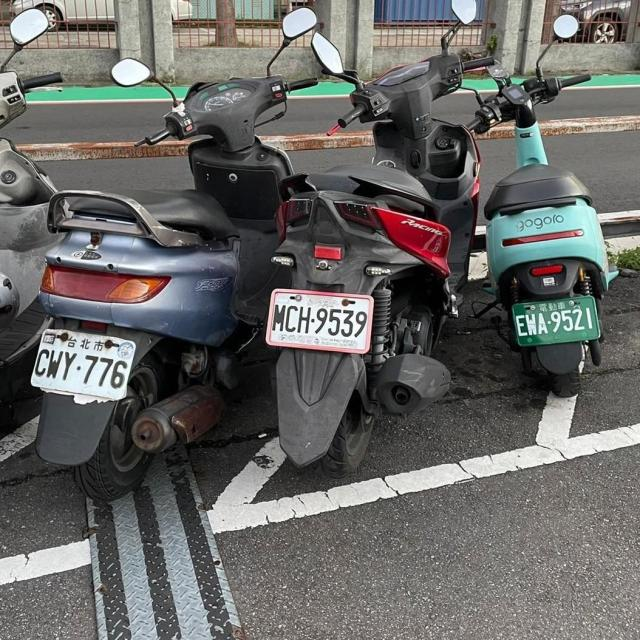GW: (503, 291, 610, 350)
W: (27, 320, 140, 405), (264, 286, 376, 356)
